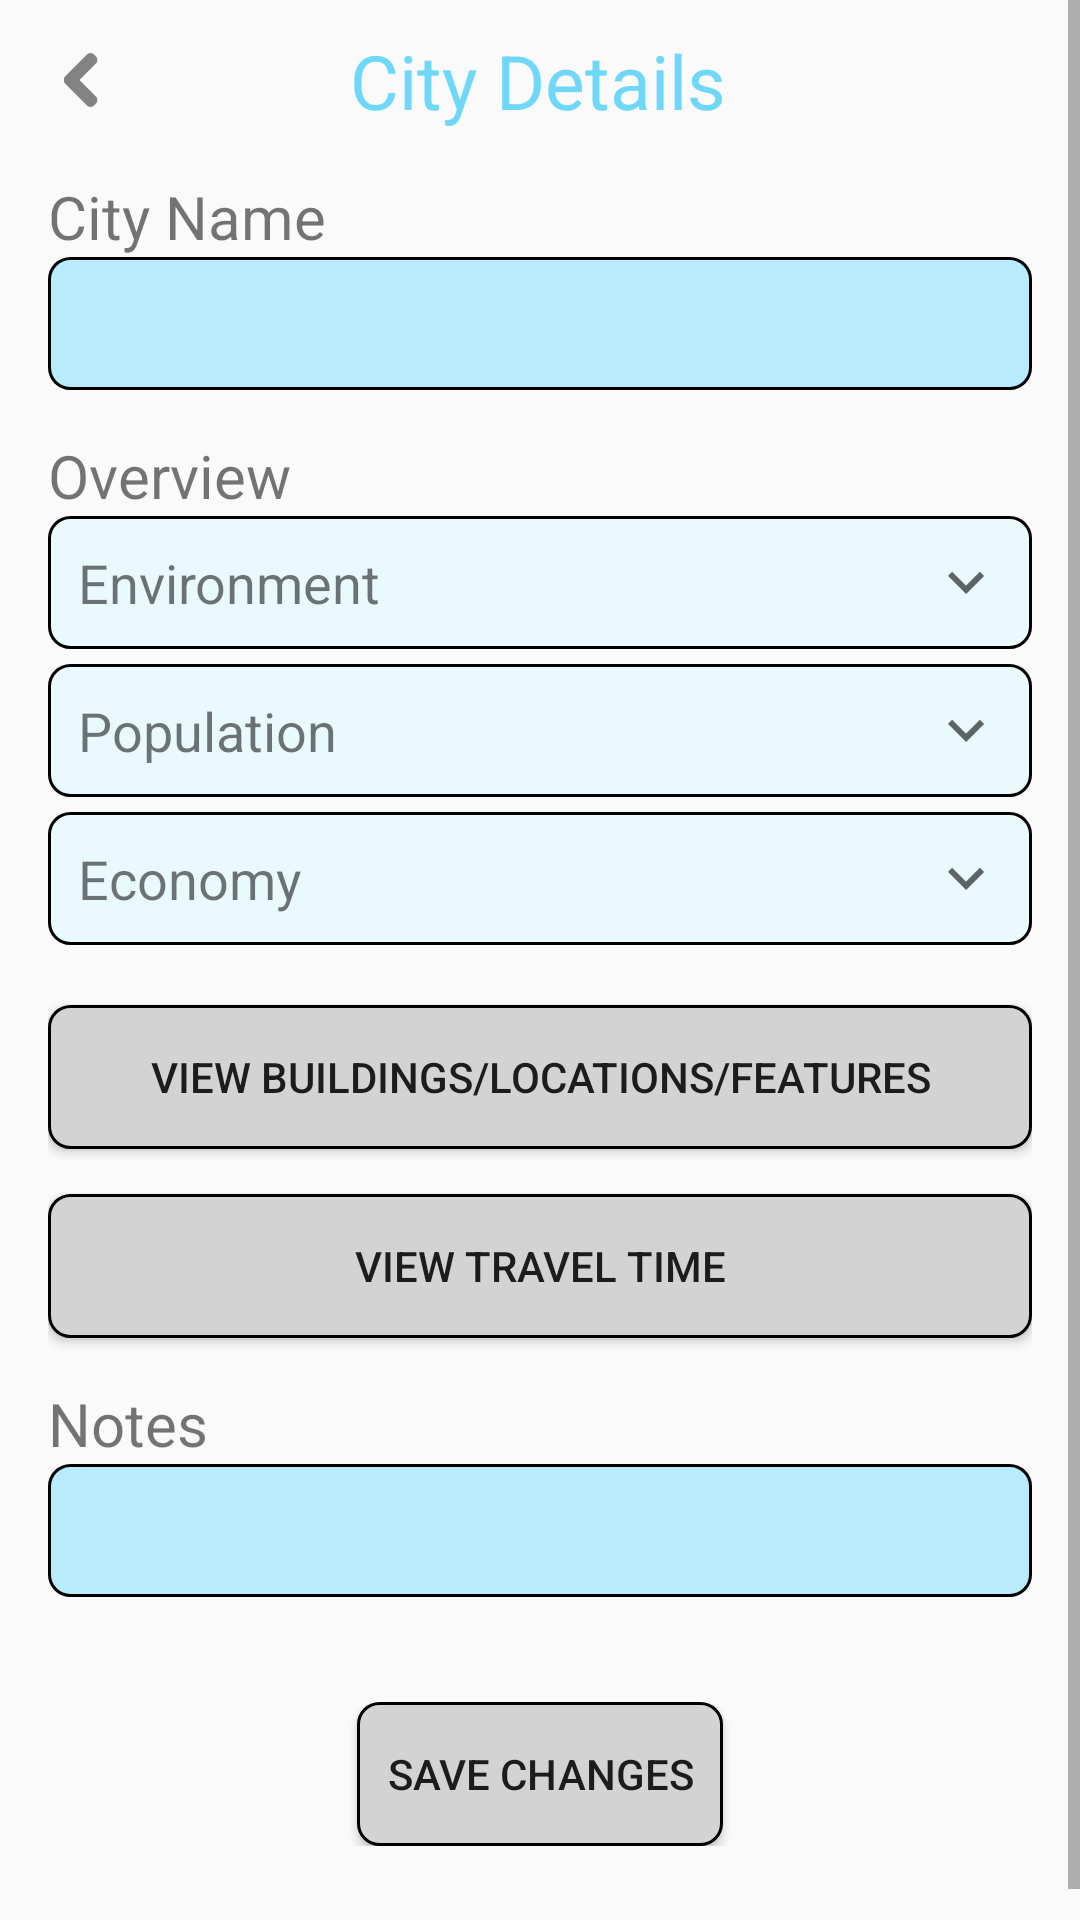

Icons on this 1080 x 1920 Android screen, each with the point to tap as (x,y):
backarrow: (81,80)
